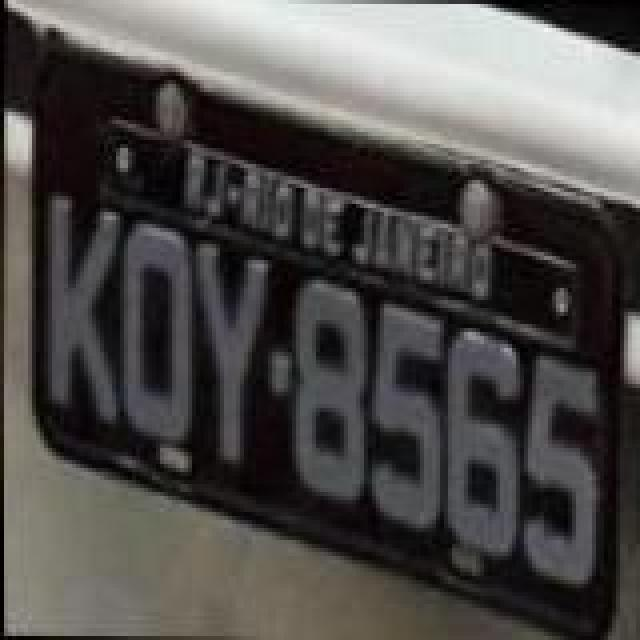5: (516, 350, 608, 594), (364, 298, 448, 534)
6: (440, 326, 524, 562)
8: (288, 274, 372, 510)
K: (42, 192, 122, 432)
O: (120, 220, 196, 452)
Y: (190, 238, 270, 466)
